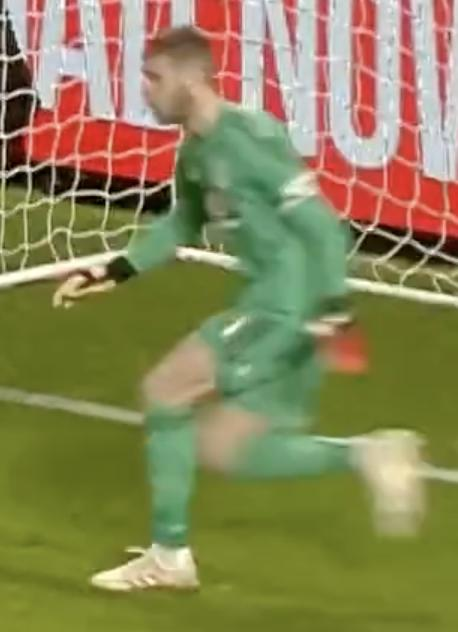goalkeeper: (29, 15, 458, 632)
